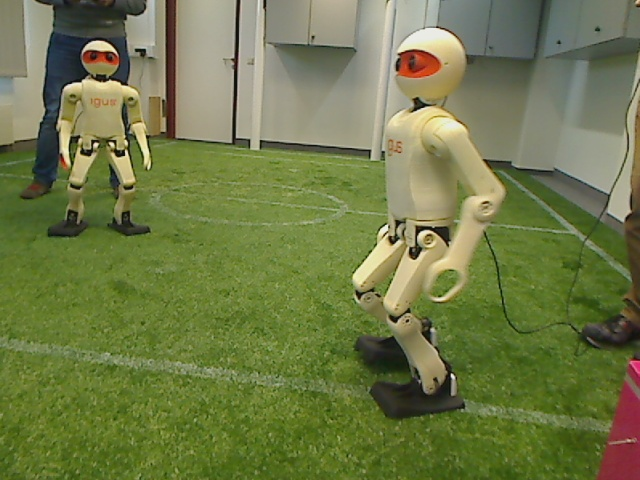robot: (352, 25, 502, 418), (46, 34, 149, 243)
